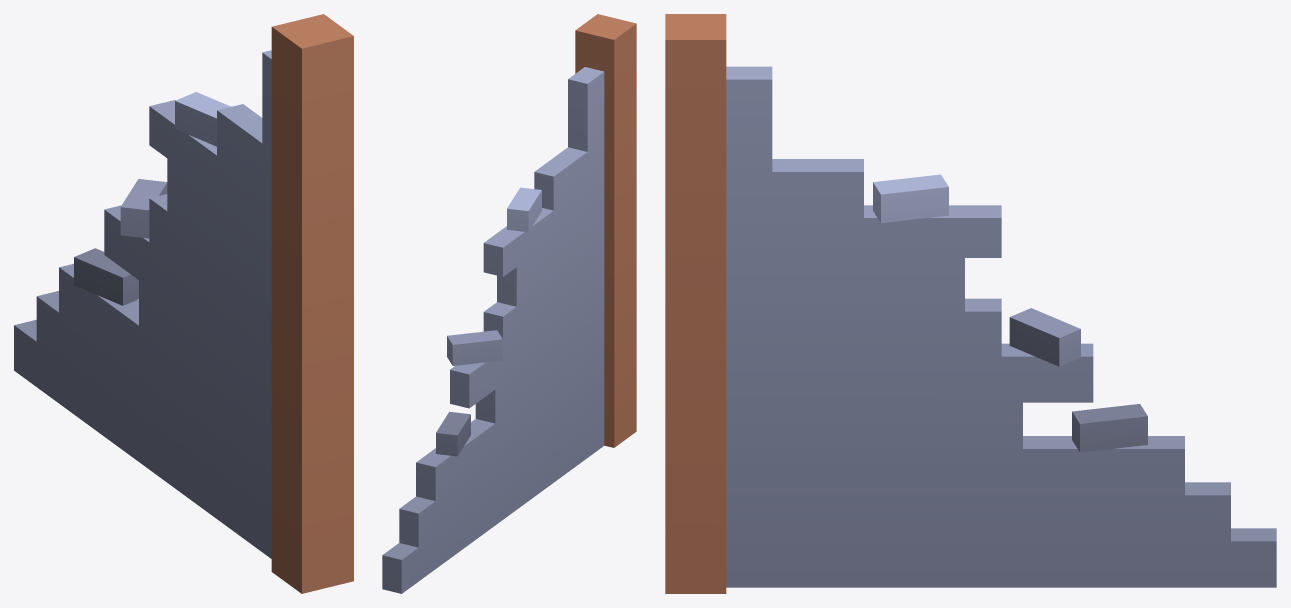
File: wall-broken.glb
3 renders of one model, left to right at view 1: azimuth 30°, elevation 25°; view 2: azimuth 150°, elevation 25°; view 3: azimuth 270°, elevation 25°, orthographic. The views are drawn at different scales.
Visible parts, largest first — view 1: wall-broken; view 2: wall-broken; view 3: wall-broken.
Part boxes in pixels (x1,y1,x2,y2): wall-broken: [14, 14, 353, 593]; wall-broken: [382, 14, 636, 593]; wall-broken: [665, 14, 1276, 593].
Size of the model in its own units: 0.1168 by 1 by 1.
1 material, 1 textured.
